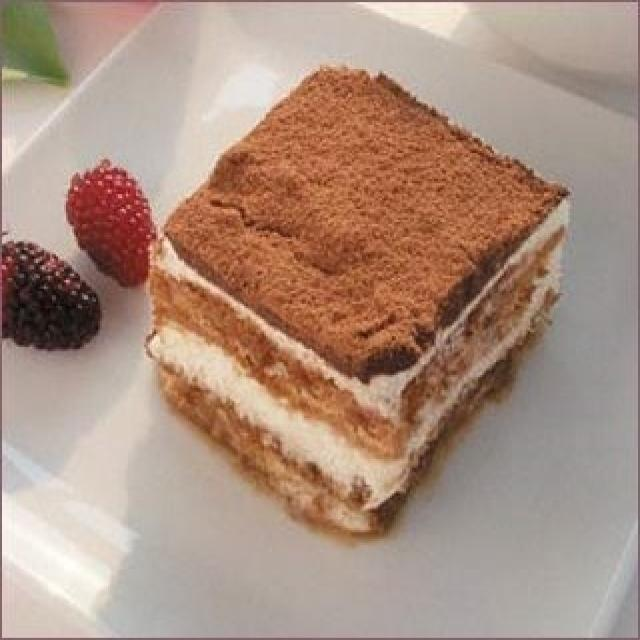蛋糕甜品: (4, 2, 634, 629)
